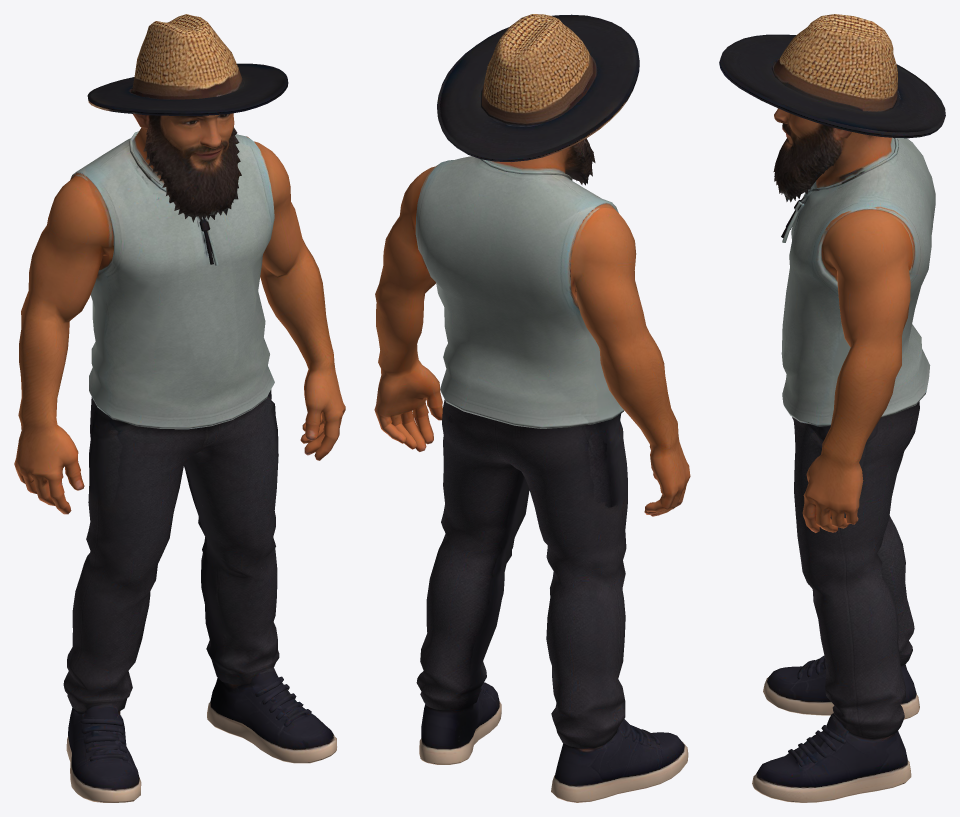
File: avatar3-preview.glb
3 views of the same model, side by side, from view 1: azimuth 30°, elevation 25°; view 2: azimuth 150°, elevation 25°; view 3: azimuth 270°, elevation 25° (orthographic).
Parts seen in each view (by area): view 1: tripo_551b4a0b_f86e_4611_9ead_f08cc9411a02; view 2: tripo_551b4a0b_f86e_4611_9ead_f08cc9411a02; view 3: tripo_551b4a0b_f86e_4611_9ead_f08cc9411a02.
Part boxes in pixels (x1,y1,x2,y2): tripo_551b4a0b_f86e_4611_9ead_f08cc9411a02: [14, 14, 345, 802]; tripo_551b4a0b_f86e_4611_9ead_f08cc9411a02: [374, 14, 690, 802]; tripo_551b4a0b_f86e_4611_9ead_f08cc9411a02: [719, 14, 945, 802].
Bounding box in the file's own units: 0.4429 × 0.9995 × 0.2827.
Materials: 1 (1 with a texture image).
